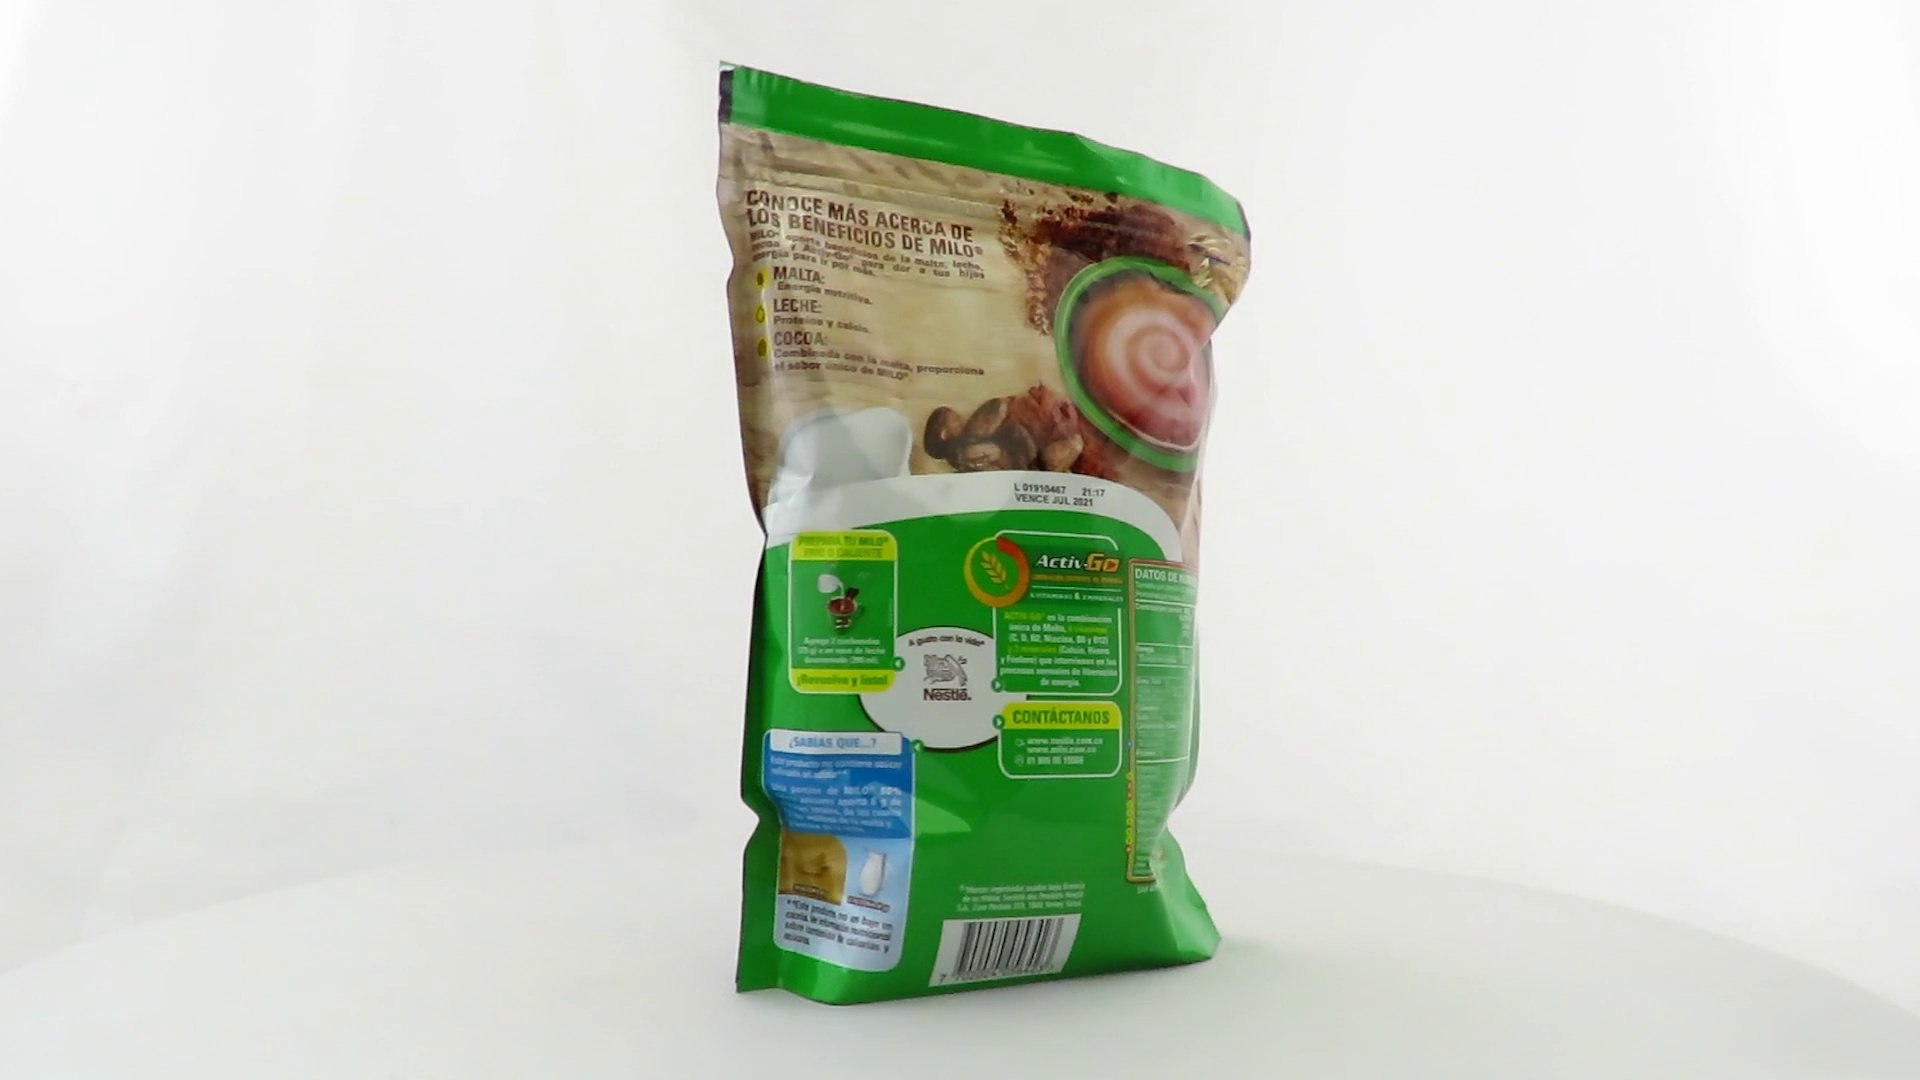COL0170205DYP50000: (711, 55, 1258, 1013)
